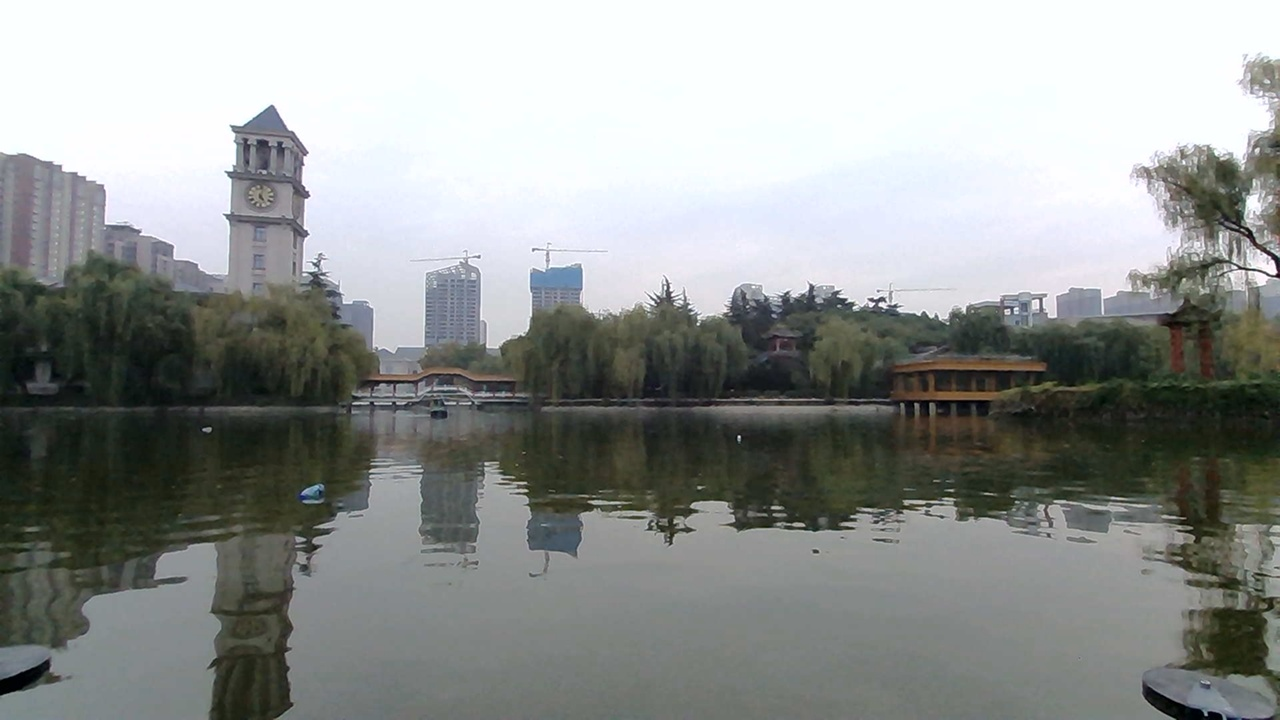bottle: (721, 424, 759, 449), (294, 483, 333, 507), (184, 414, 223, 437)
